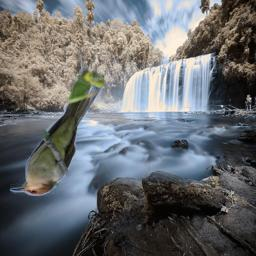Cuckoo: (10, 66, 104, 196)
